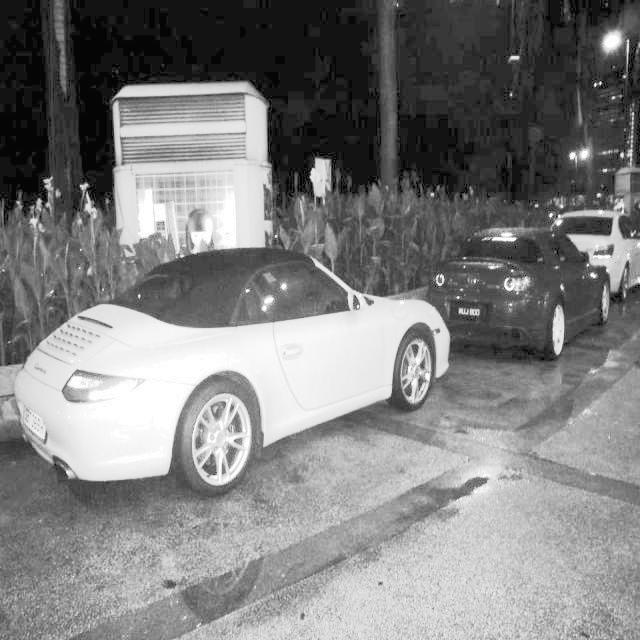Car: (17, 238, 459, 501), (429, 220, 610, 383), (550, 197, 640, 327)
